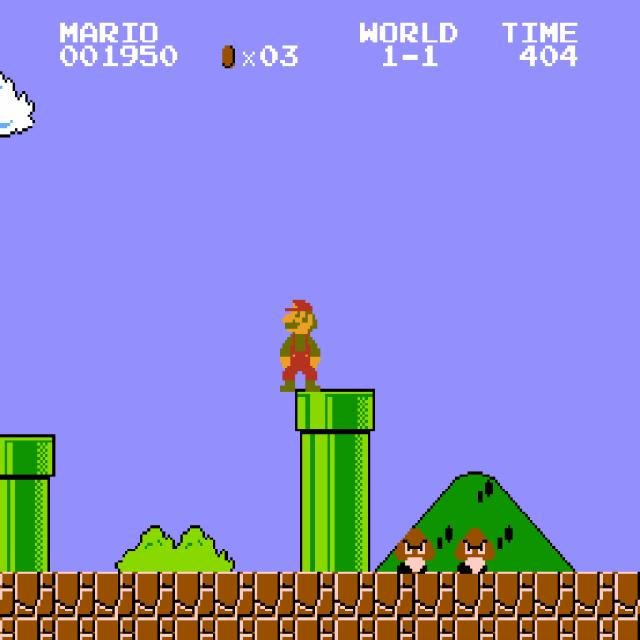big_mario: (277, 298, 320, 392)
goomba: (392, 526, 435, 574), (453, 526, 495, 574)
pipe: (15, 480, 55, 526), (295, 434, 335, 480), (295, 480, 335, 526), (335, 434, 375, 480), (335, 480, 375, 526), (15, 526, 55, 571), (295, 526, 335, 571), (335, 526, 375, 571), (0, 480, 15, 526), (0, 526, 15, 571)
pipe_head: (15, 434, 55, 480), (295, 389, 335, 434), (335, 389, 375, 434), (0, 434, 15, 480)
undestructible_block: (15, 572, 55, 617), (55, 572, 95, 617), (95, 572, 135, 617), (135, 572, 175, 617), (175, 572, 215, 617), (215, 572, 255, 617), (255, 572, 295, 617), (295, 572, 335, 617), (335, 572, 375, 617), (375, 572, 415, 617), (415, 572, 455, 617), (455, 572, 495, 617), (495, 572, 535, 617), (535, 572, 575, 617), (575, 572, 615, 617), (614, 571, 640, 617), (15, 617, 55, 640), (55, 617, 95, 640), (95, 617, 135, 640), (135, 617, 175, 640), (175, 617, 215, 640), (215, 617, 255, 640), (255, 617, 295, 640), (295, 617, 335, 640), (335, 617, 375, 640), (375, 617, 415, 640), (415, 617, 455, 640), (455, 617, 495, 640), (495, 617, 535, 640), (535, 617, 575, 640), (575, 617, 615, 640), (0, 572, 15, 617), (614, 617, 640, 639), (0, 617, 15, 640)
